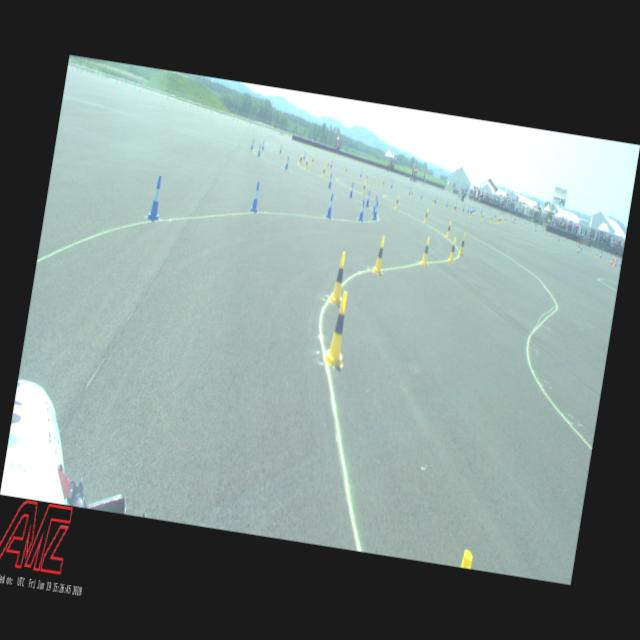blue_cone: (148, 174, 165, 220), (250, 182, 262, 212), (326, 194, 334, 218), (358, 198, 366, 222), (372, 201, 380, 220), (259, 142, 266, 160), (365, 190, 371, 207), (372, 196, 377, 213), (284, 156, 290, 170), (349, 182, 354, 198), (328, 173, 333, 189), (258, 144, 262, 156), (250, 140, 254, 150), (408, 186, 412, 195), (262, 140, 265, 150), (420, 191, 423, 200), (303, 151, 306, 160), (462, 204, 465, 212), (466, 206, 469, 214), (360, 169, 363, 177), (330, 160, 333, 168), (390, 180, 393, 188), (619, 259, 622, 267), (280, 144, 282, 154), (435, 195, 437, 204), (577, 246, 579, 254), (446, 200, 448, 207), (454, 202, 456, 209), (580, 243, 582, 250), (474, 205, 476, 212), (480, 208, 482, 215), (558, 235, 560, 242), (471, 206, 473, 212), (472, 206, 474, 212), (514, 218, 516, 224), (600, 252, 602, 258), (494, 212, 496, 218), (471, 206, 472, 212), (535, 226, 536, 232)
large_orange_cone: (610, 253, 614, 266), (615, 256, 618, 266)
unknown_cone: (566, 236, 568, 240), (542, 228, 544, 232), (520, 217, 522, 221), (599, 248, 601, 252), (546, 229, 548, 233), (576, 240, 578, 244), (618, 256, 620, 259), (557, 234, 558, 238), (552, 232, 553, 236), (528, 222, 530, 224), (620, 255, 621, 259), (515, 217, 516, 221), (525, 221, 526, 225), (602, 249, 603, 253), (519, 217, 520, 221), (500, 210, 500, 214)
yellow_cone: (324, 289, 353, 366), (330, 251, 350, 304), (373, 236, 387, 274), (420, 236, 432, 266), (447, 236, 458, 262), (460, 549, 474, 569), (458, 234, 466, 256), (445, 220, 452, 238), (394, 196, 400, 208), (424, 208, 428, 224), (362, 182, 366, 195), (322, 166, 326, 178), (304, 159, 308, 170), (432, 197, 436, 205), (344, 167, 348, 175), (612, 258, 616, 266), (411, 190, 414, 198), (326, 162, 329, 170), (481, 213, 484, 221), (301, 154, 303, 164), (312, 157, 314, 166), (382, 179, 384, 188), (498, 218, 501, 224), (499, 216, 502, 222), (366, 174, 368, 182), (491, 215, 493, 223), (300, 156, 302, 164), (511, 218, 513, 226), (497, 218, 499, 225), (596, 252, 598, 259), (453, 205, 455, 212), (470, 212, 472, 218), (562, 238, 564, 244), (521, 222, 523, 228), (550, 233, 552, 239), (505, 218, 507, 223), (535, 230, 536, 234)
